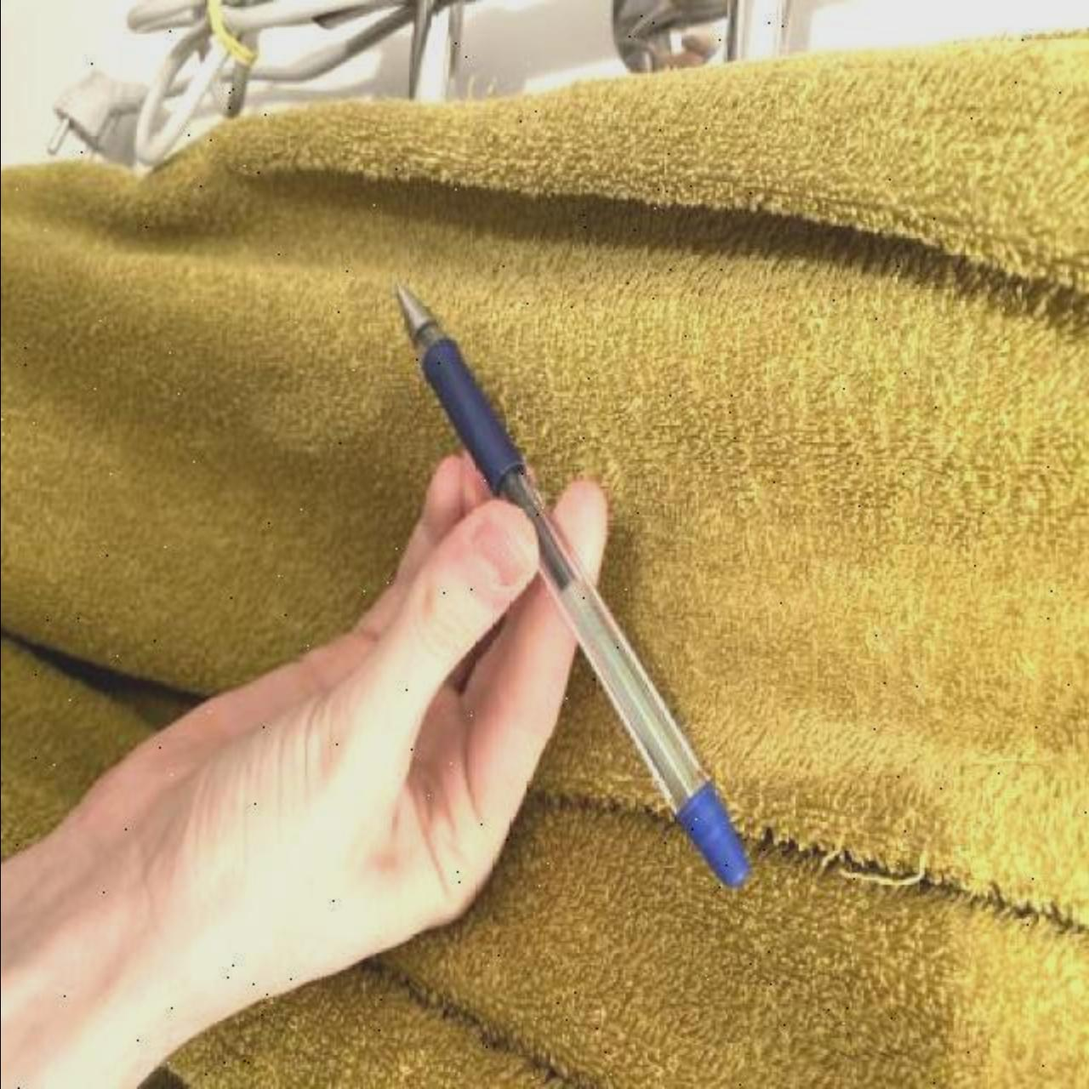pen: (390, 279, 755, 888)
